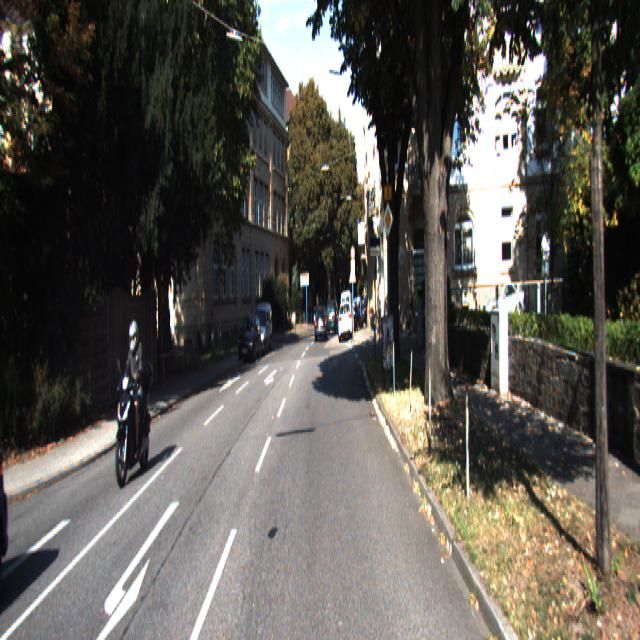Car: (109, 318, 158, 488), (480, 280, 522, 328), (236, 314, 263, 367), (250, 302, 273, 358), (338, 300, 352, 343), (314, 305, 328, 345)
